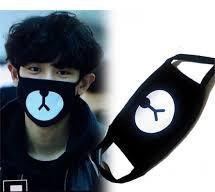OK: (19, 60, 80, 121)
